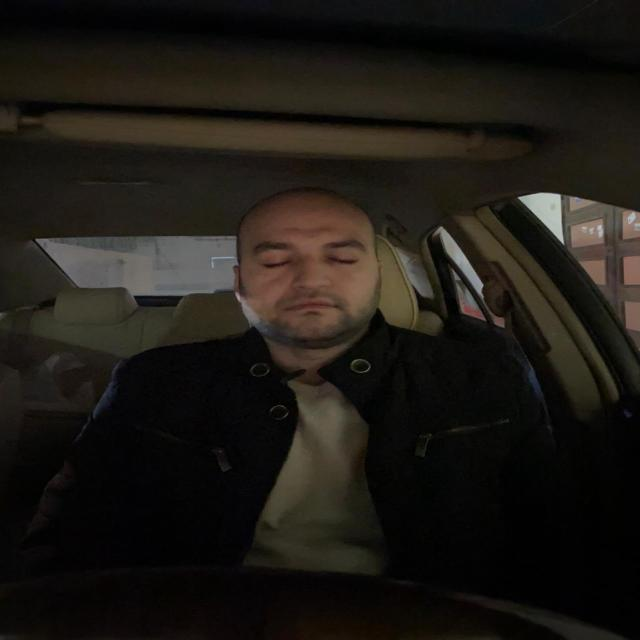drowsy: (218, 180, 398, 359)
